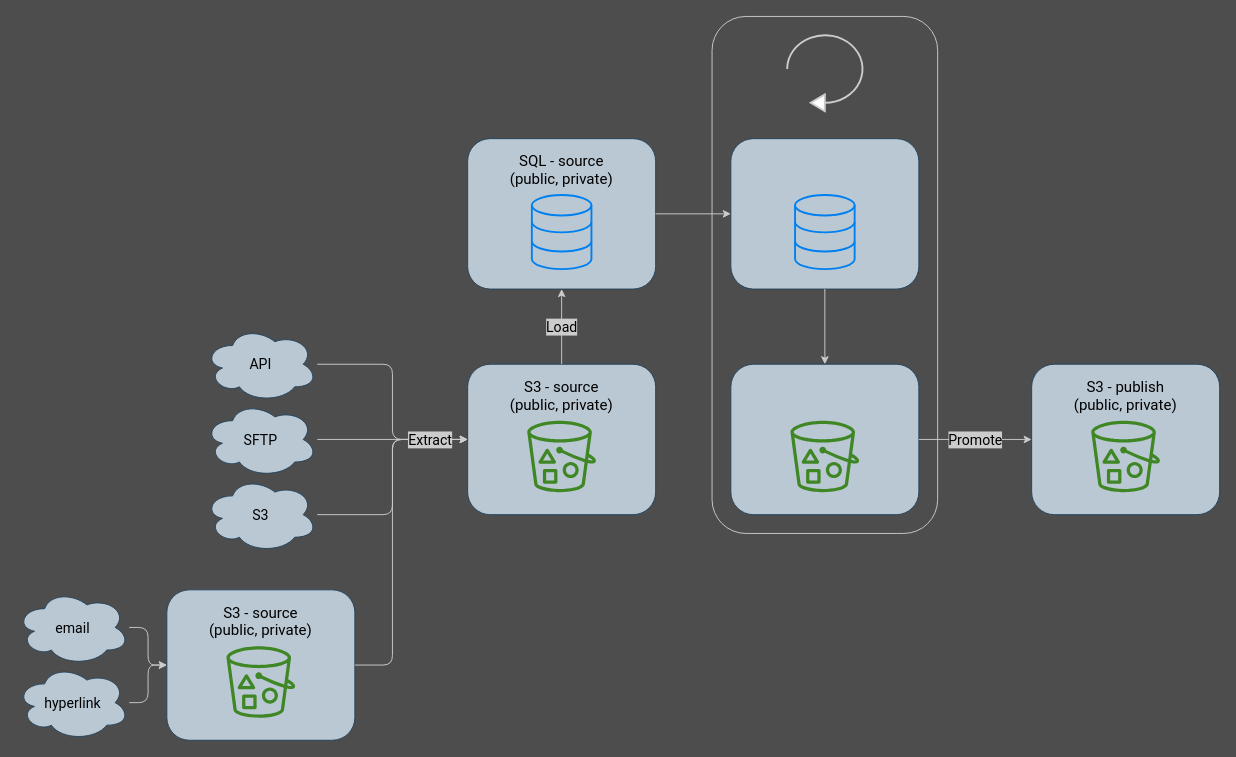
This 1236x757 diagram has some shape labels left out. Each missing label, with the box of its shape:
S3 - build: (730, 363, 919, 515)
SQL - build: (730, 138, 919, 289)
Transform: (786, 34, 863, 112)
